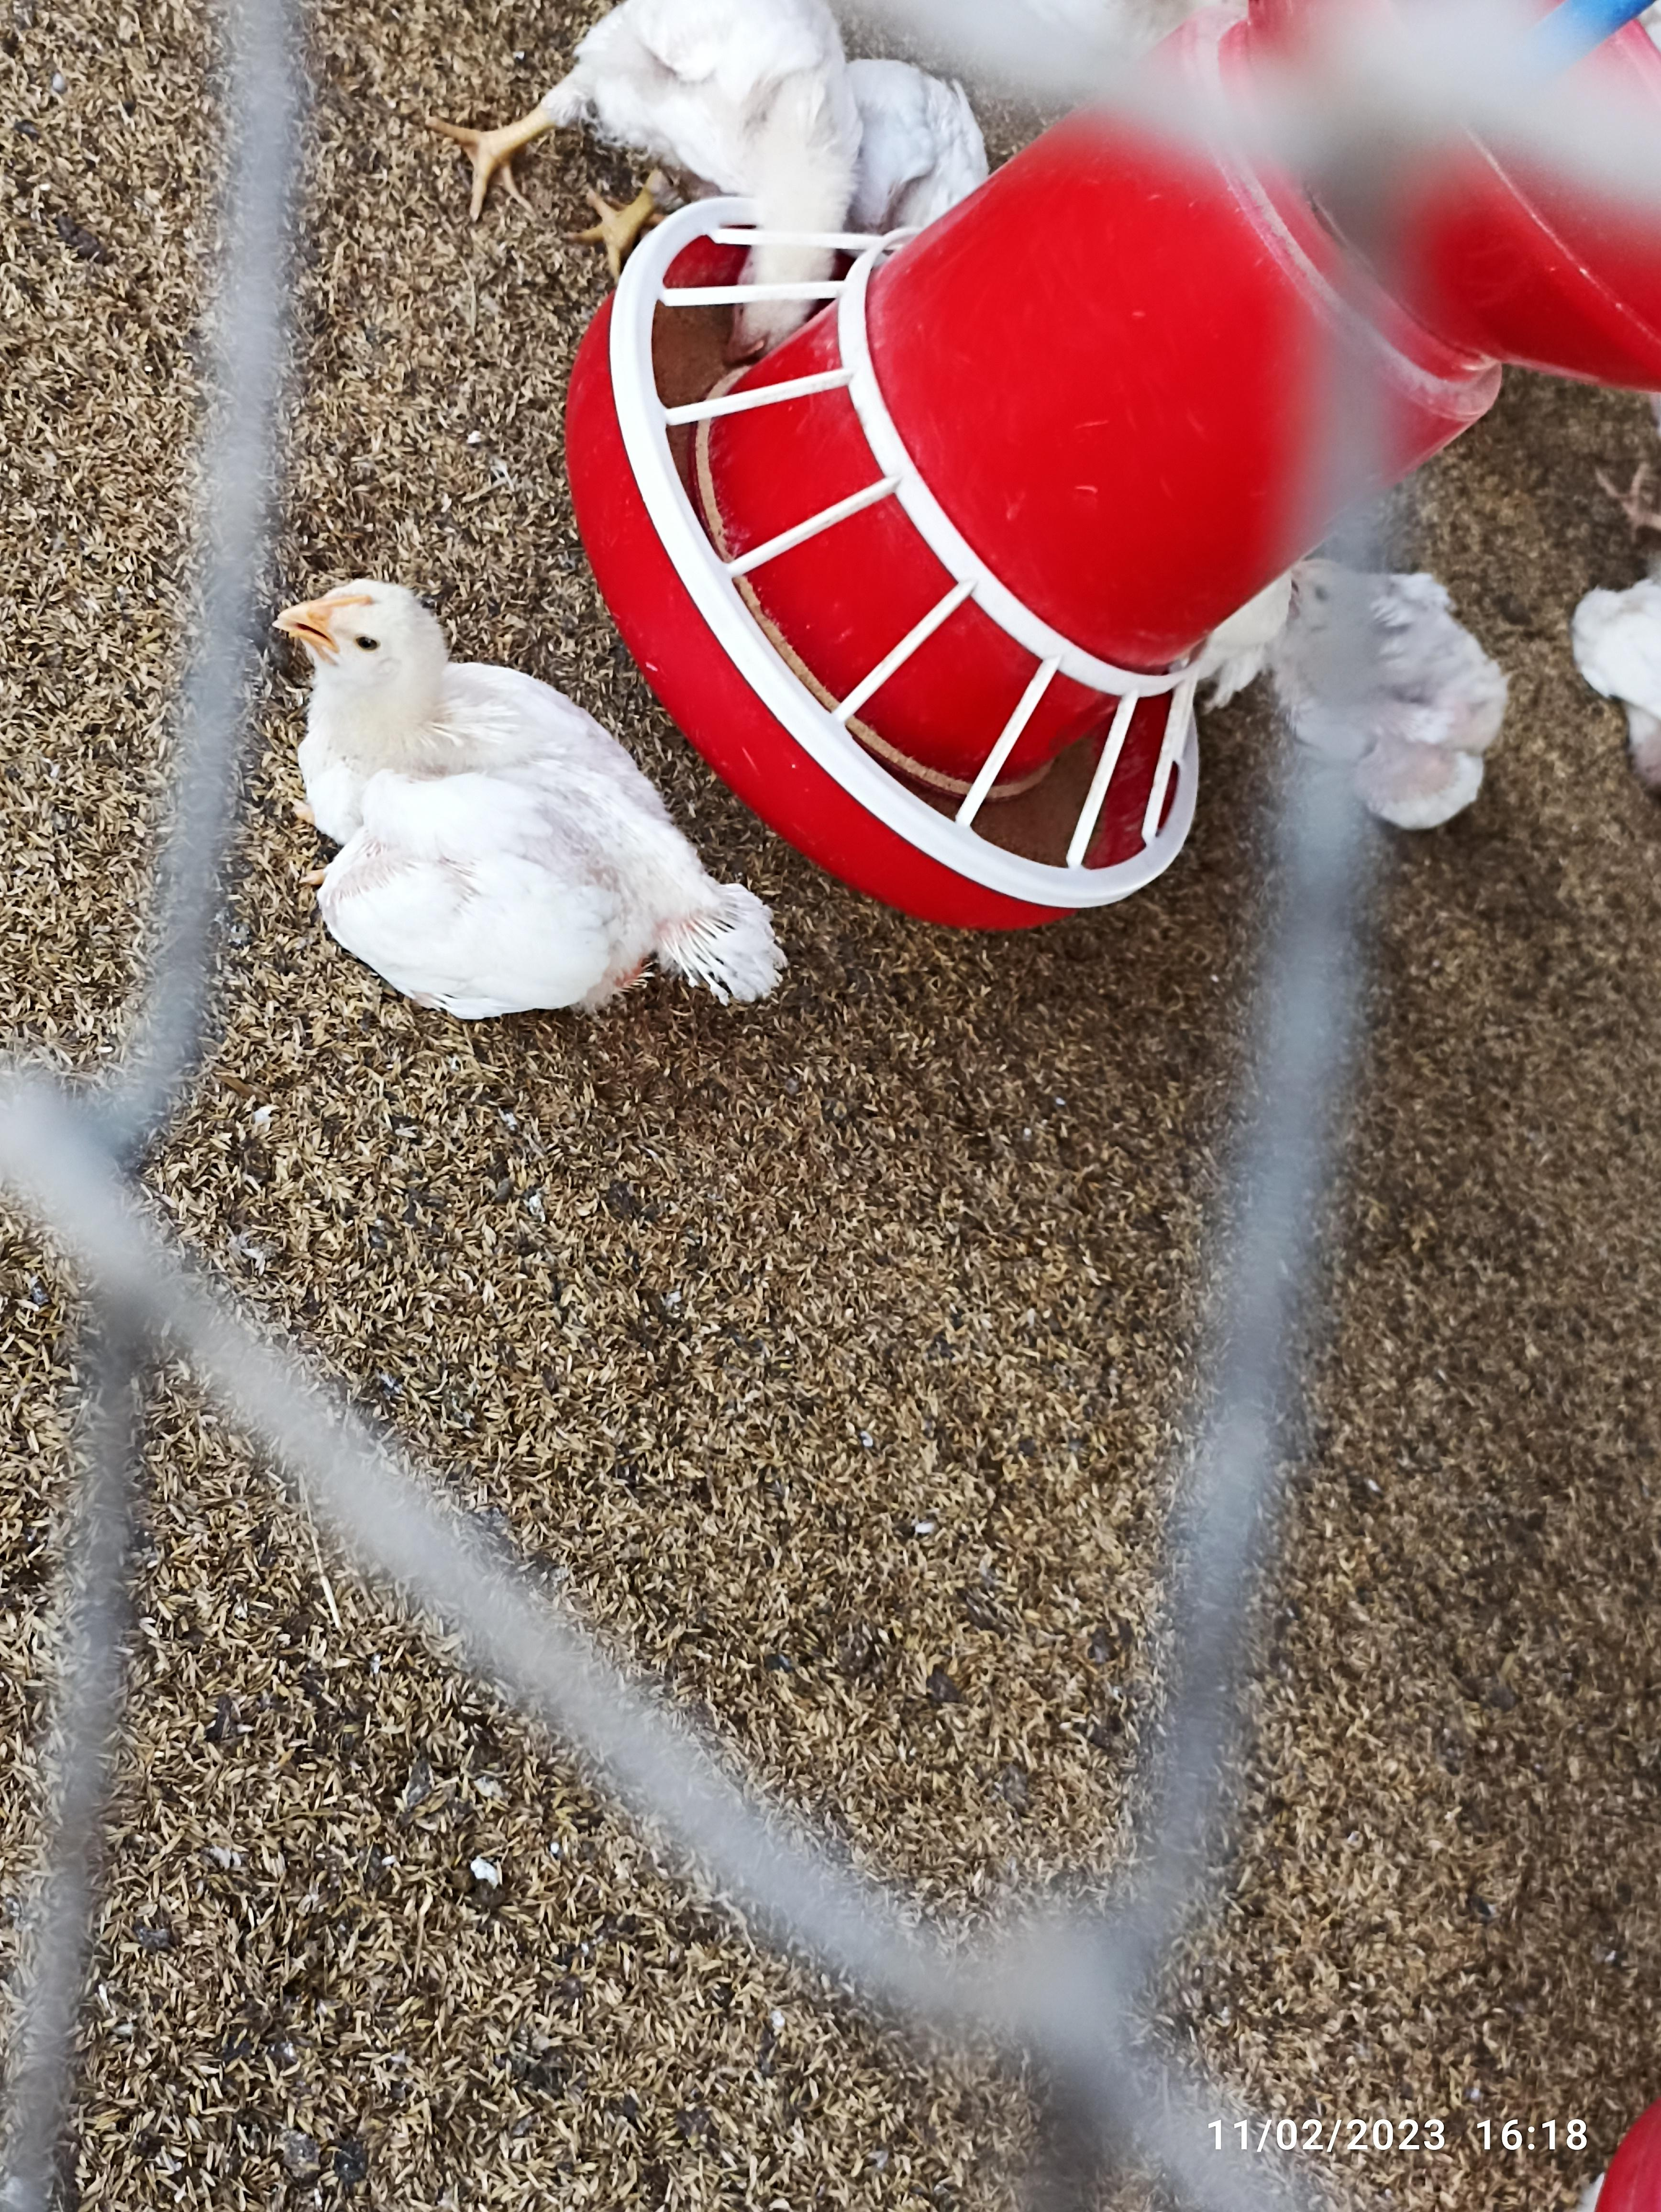Pollos: (288, 574, 761, 1019), (598, 0, 872, 300), (1300, 550, 1509, 843)
